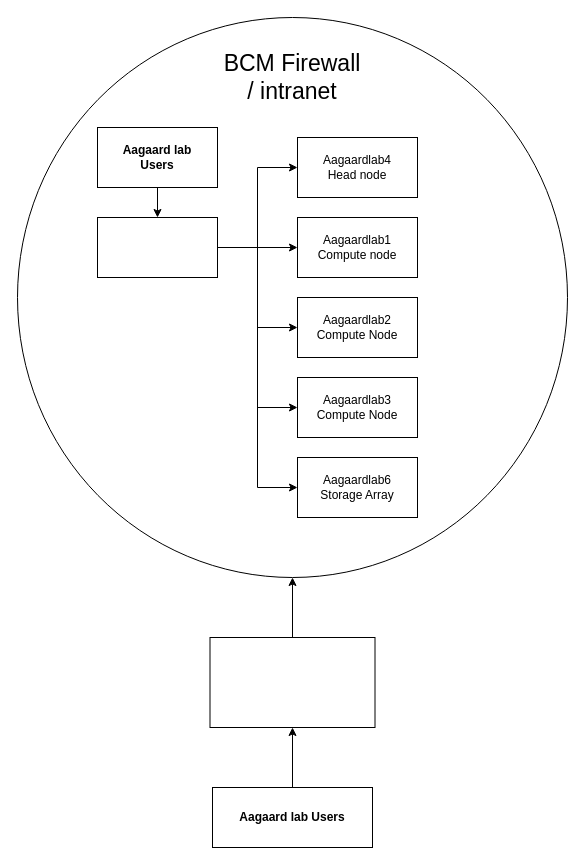
Some shapes in this 585 by 865 pixel diagram are drawn without their labels. The shapes that lost their labels are listed below. From the top down, each one's centre as x and y in pixels, then its label:
(157,247): BCM Managed network switch
(292,682): Cisco Anyconnect VPN
